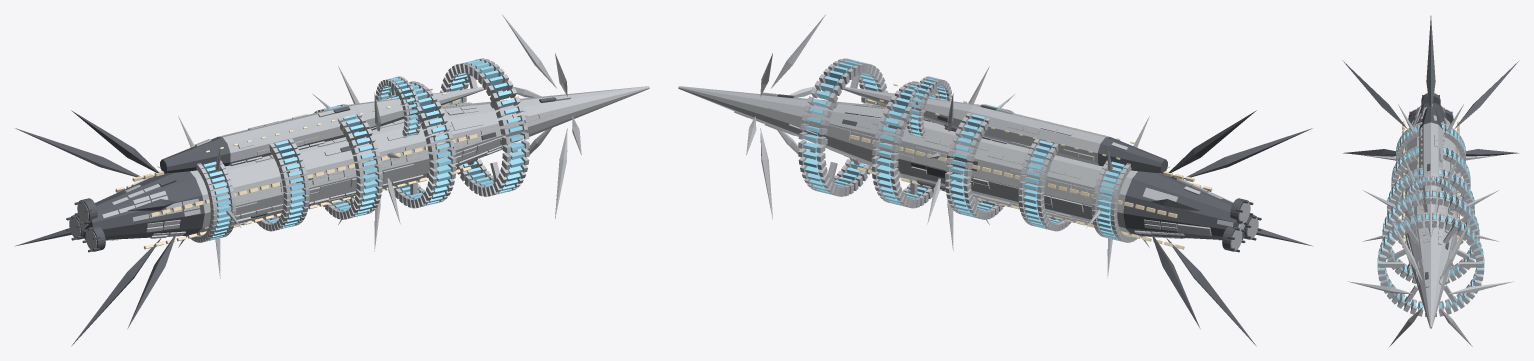
File: SM_TheLastSilence.fbx
The picture shows the model from 3 angles, left to right: view 1: azimuth 30°, elevation 25°; view 2: azimuth 150°, elevation 25°; view 3: azimuth 270°, elevation 25°; orthographic projection. The views are drawn at different scales.
Parts seen in each view (by area): view 1: SM_TheLastSilence; view 2: SM_TheLastSilence; view 3: SM_TheLastSilence.
Part boxes in pixels (x1=…): SM_TheLastSilence: x1=15, y1=14, x2=649, y2=346; SM_TheLastSilence: x1=678, y1=14, x2=1312, y2=346; SM_TheLastSilence: x1=1342, y1=16, x2=1519, y2=346.
Size of the model in its own units: 738 by 289 by 250.
